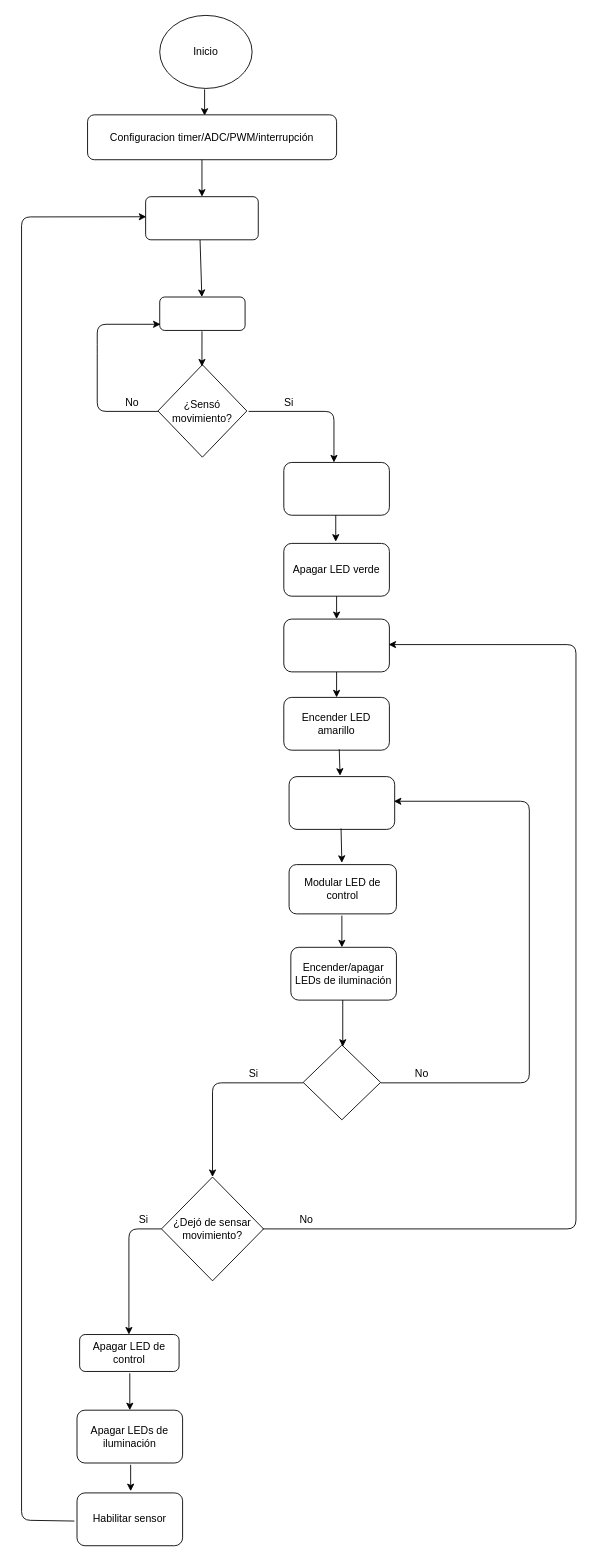
This 598x1561 diagram has some shape labels left out. Here are the shapes that lost their labels. From the top down, the centre of each, then its label:
the point at 201,218: Encender LED verde y apagar LED amarillo
the point at 202,313: Espera
the point at 336,488: Deshabilitar sensor de movimiento
the point at 336,645: Habilitar timer
the point at 341,802: Sensar luz
the point at 341,1082: ¿Pasaron 8 segundos?
